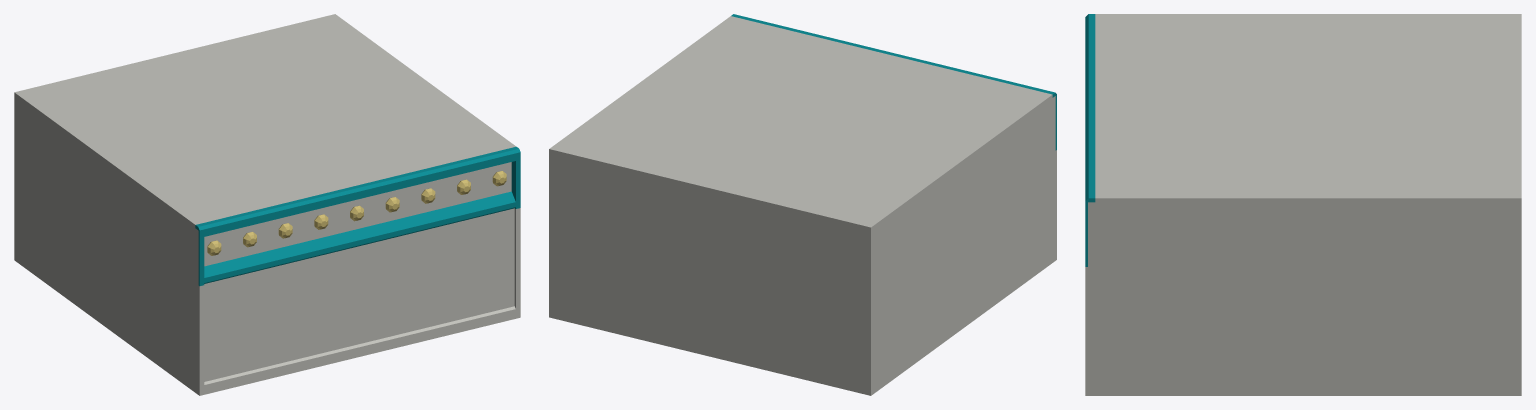
The model's file is chast.glb.
The picture shows the model from 3 angles, left to right: view 1: azimuth 30°, elevation 25°; view 2: azimuth 150°, elevation 25°; view 3: azimuth 270°, elevation 25°; orthographic projection. The views are drawn at different scales.
Visible parts, largest first — view 1: mesh_0; view 2: mesh_0; view 3: mesh_0.
Part boxes in pixels (bbox=[...]): mesh_0: bbox=[14, 14, 520, 395]; mesh_0: bbox=[549, 14, 1056, 395]; mesh_0: bbox=[1085, 14, 1521, 395].
Bounding box in the file's own units: 2 × 1 × 2.
